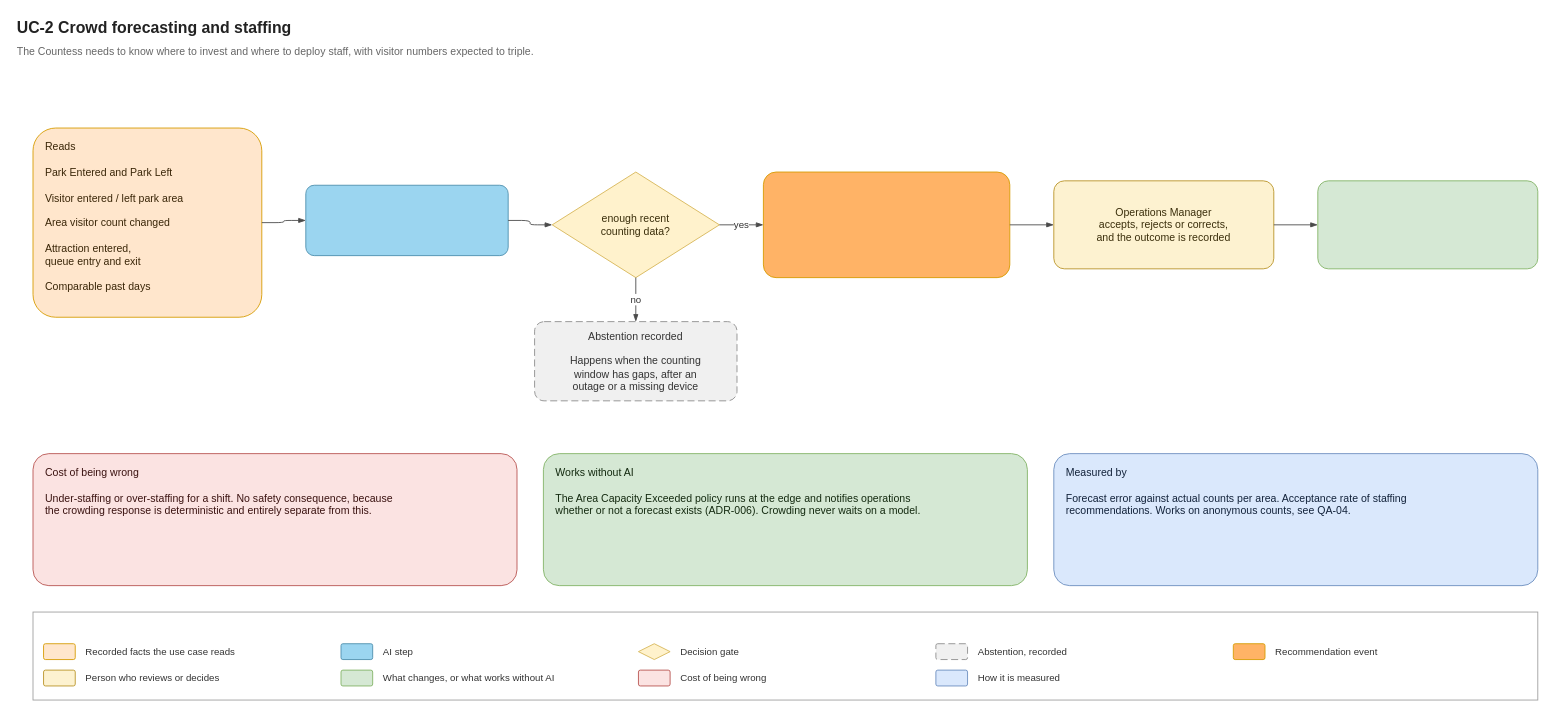
Image size: 1553x715. Some labels were removed from this diagram. Each missing label, with the box of its shape:
Crowd Forecast Produced Staffing Recommended with confidence and provenance: (763, 171, 1010, 278)
Forecast crowding and recommend staffing: (305, 184, 508, 256)
Key: (32, 611, 1538, 700)
Nothing changes until the manager acts on it.: (1317, 180, 1538, 269)
